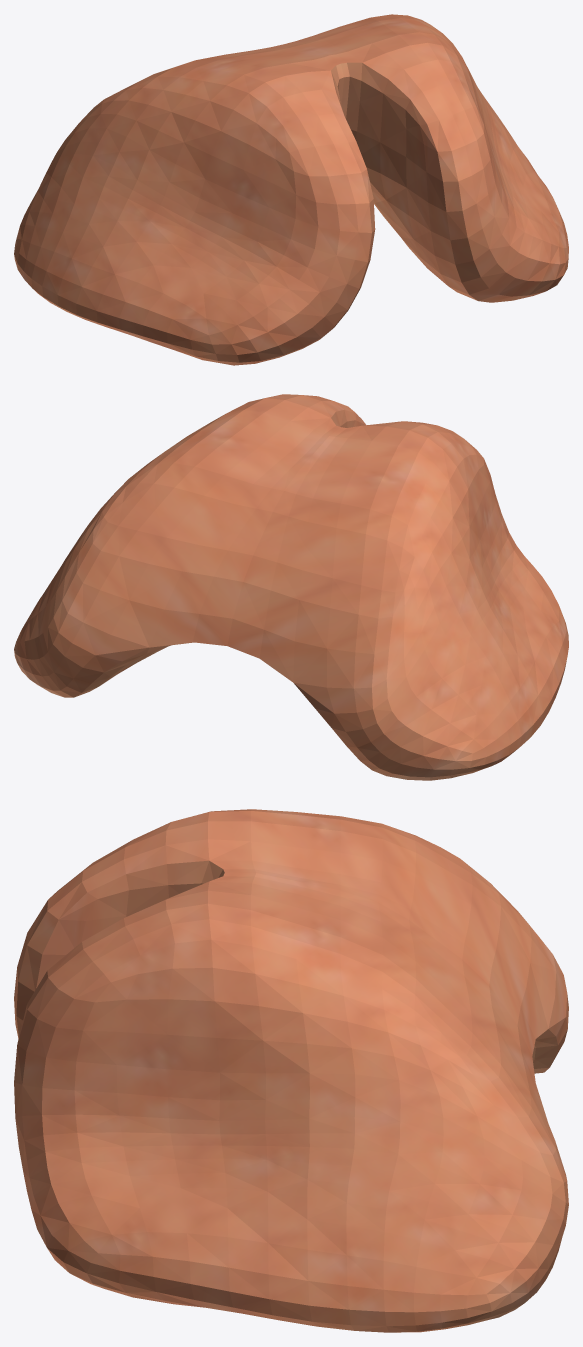
The model's file is amygdala.obj.
3 renders of one model, top to bottom at view 1: azimuth 30°, elevation 25°; view 2: azimuth 150°, elevation 25°; view 3: azimuth 270°, elevation 25°, orthographic. The views are drawn at different scales.
Bounding box in the file's own units: 2.34 × 1.15 × 1.74.
1 material, 1 textured.
